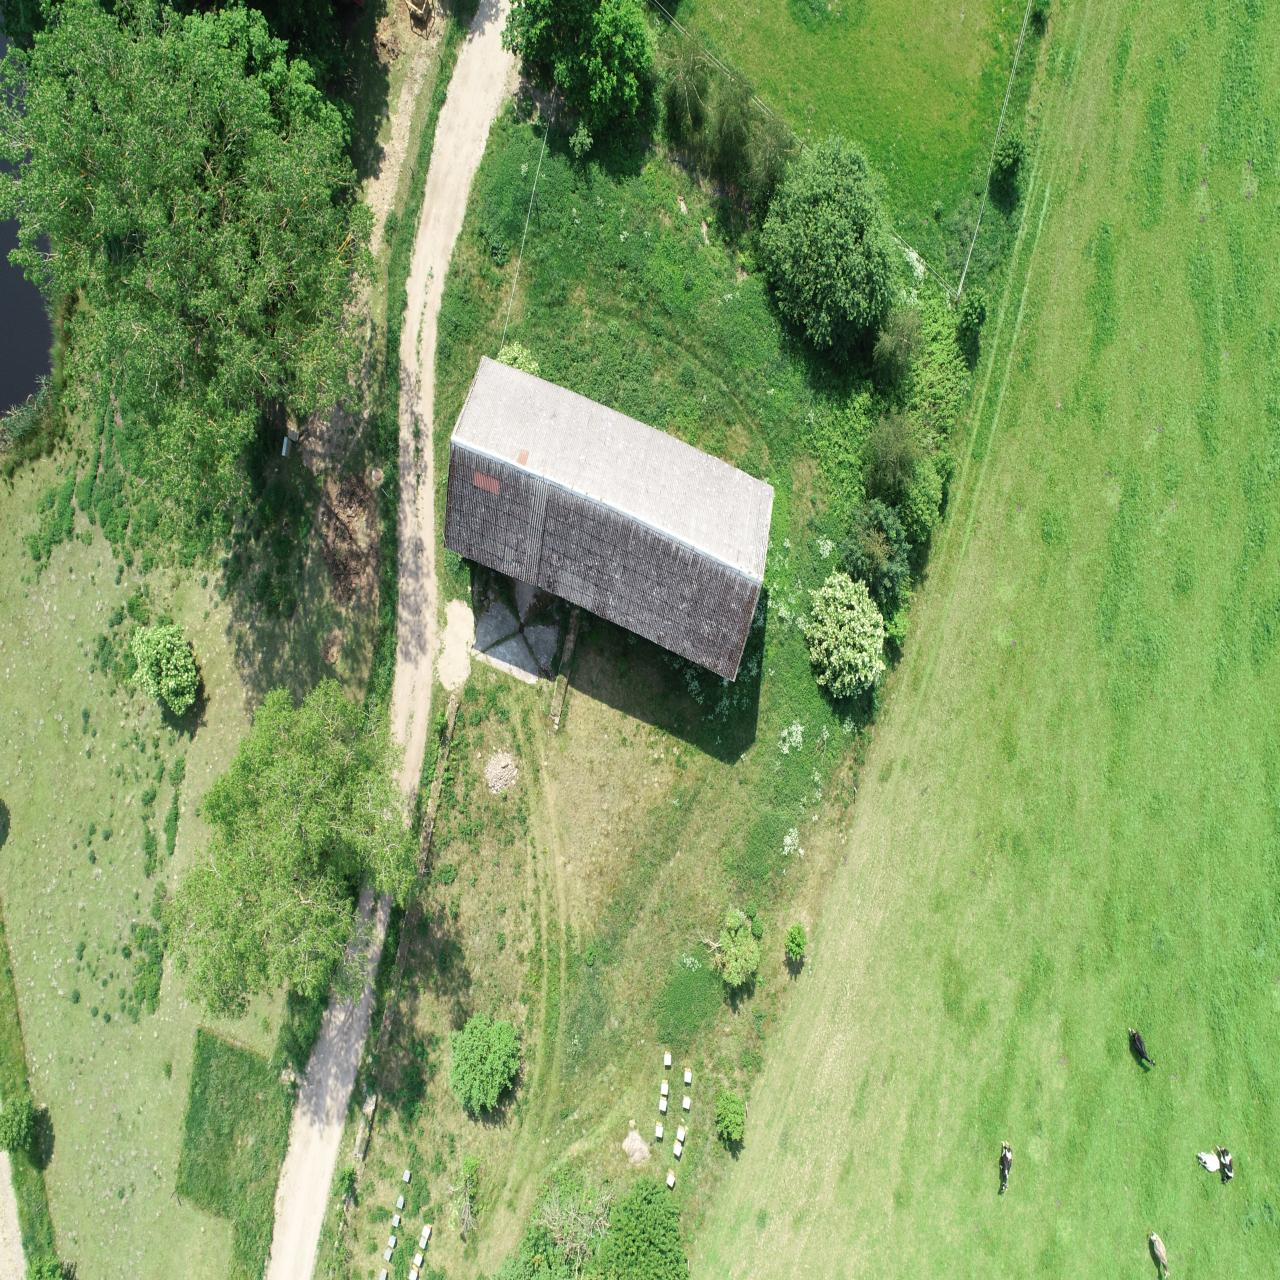cow: (1128, 1024, 1157, 1075), (1146, 1226, 1173, 1279), (996, 1136, 1014, 1198), (1213, 1142, 1235, 1190), (1196, 1148, 1220, 1173)
